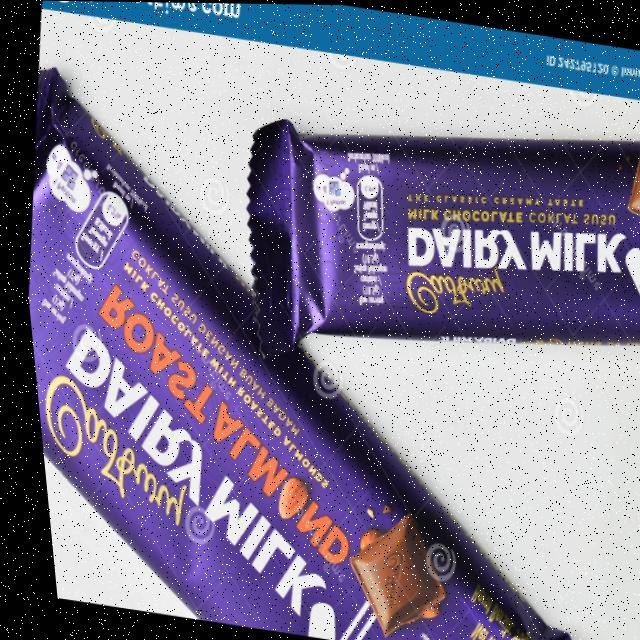cadbury: (5, 68, 640, 640), (206, 67, 640, 415)
